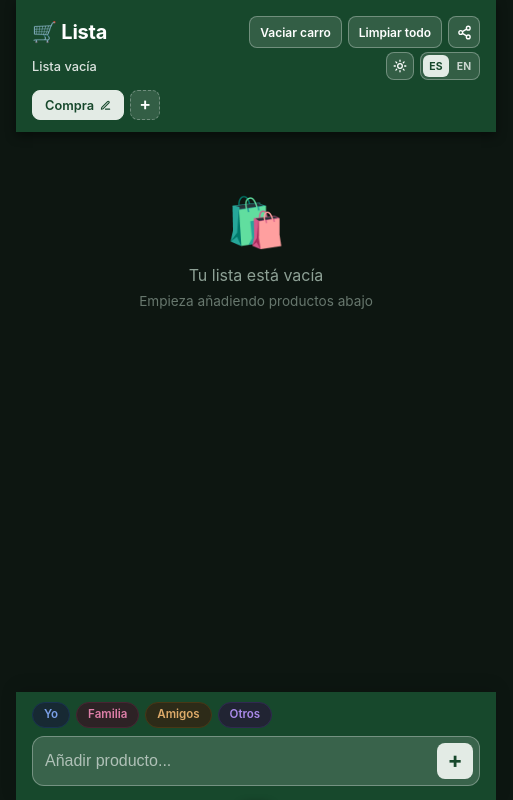
Test case: App with several lists › refuses a duplicate title and says why
The width and height of the screenshot is (513, 800).
Click the button named "Nueva lista" at (145, 105), box [130, 90, 160, 120]
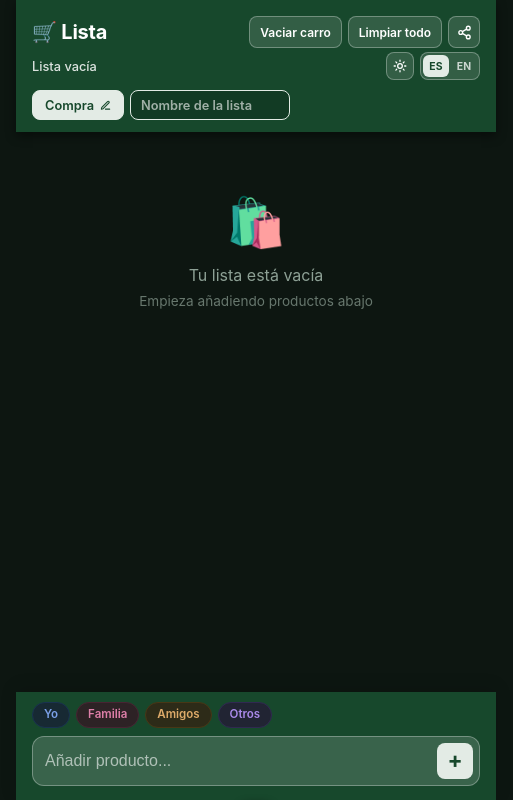
Type "COMPRA" into the field named "Nueva lista" at (210, 105), box [130, 90, 290, 120]
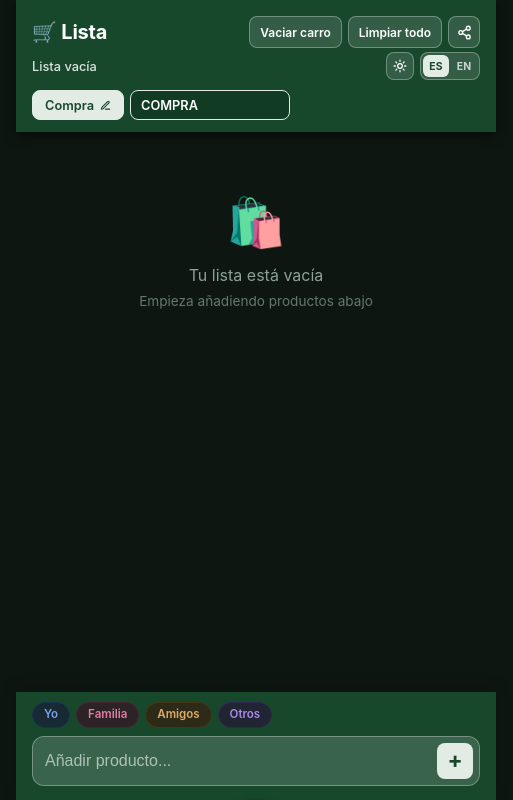
Press Enter in the field named "Nueva lista", box [130, 90, 290, 120]
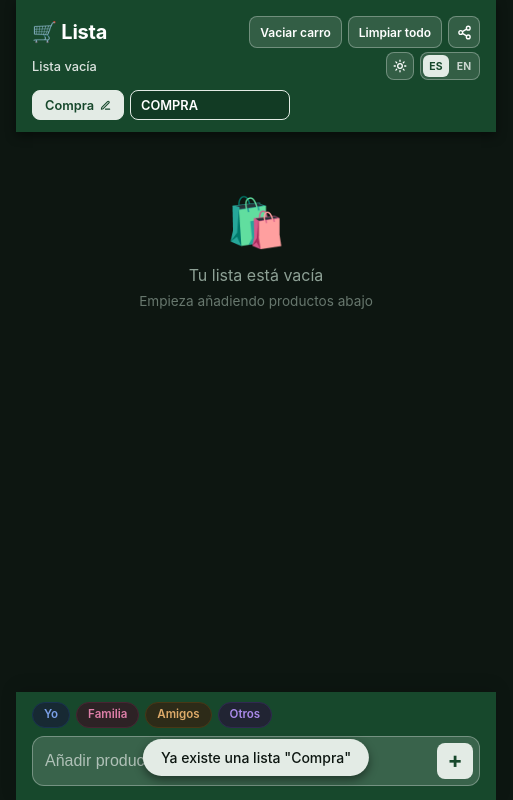
Expected: the text "Ya existe una lista \"Compra\"" is shown, [143, 739, 369, 776]
